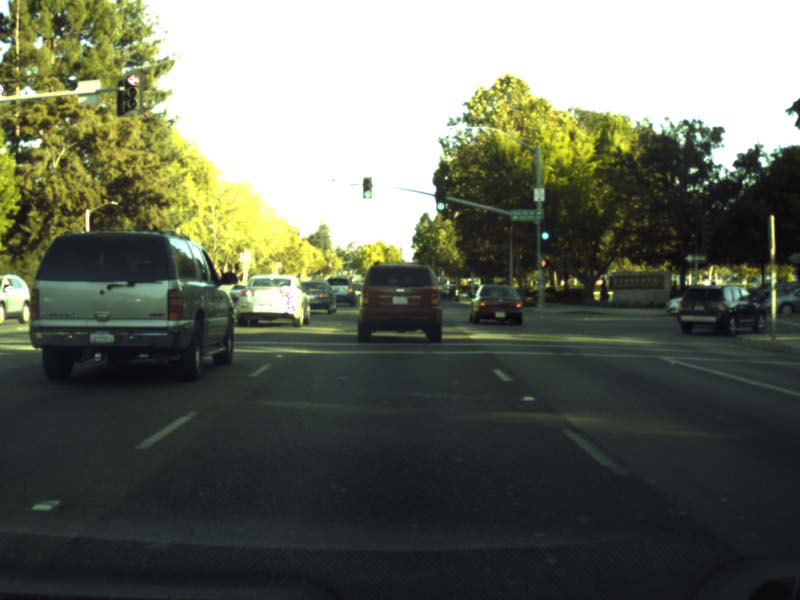Green: (435, 189, 445, 211), (540, 220, 550, 241), (362, 176, 371, 198)
Red: (126, 74, 139, 109)
